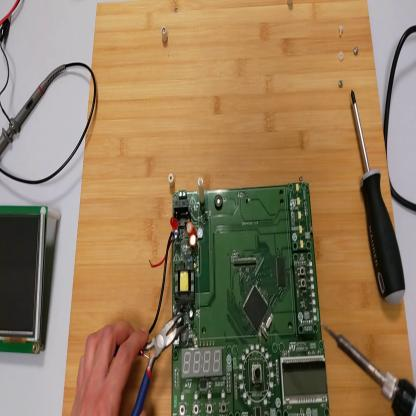hand: (72, 319, 151, 416)
low voltage board: (148, 177, 331, 416)
oscilloscope probe tip: (2, 64, 58, 154)
pliers: (114, 311, 189, 415)
screwdriver-: (353, 89, 408, 307)
welder probe tip: (324, 326, 415, 415)
working area: (63, 2, 415, 415)
